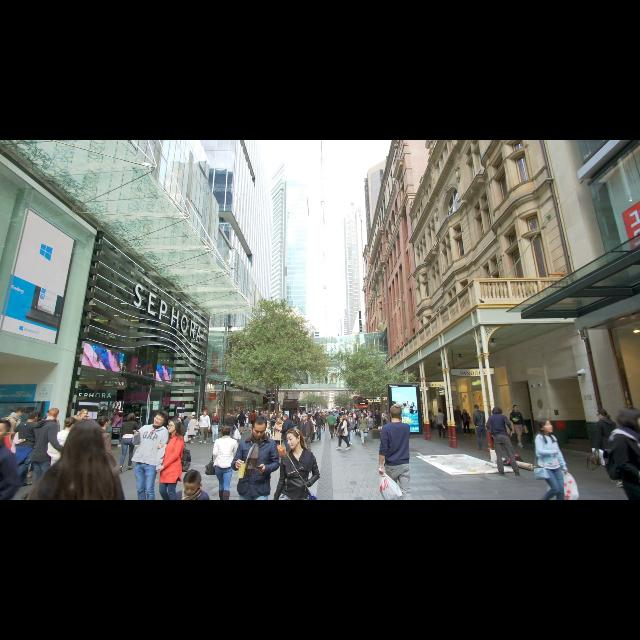head: (70, 421, 102, 464), (183, 469, 203, 496), (252, 418, 268, 440), (286, 428, 302, 450), (0, 421, 12, 443), (538, 418, 554, 434), (154, 413, 168, 427), (168, 418, 180, 434), (99, 416, 111, 430), (390, 405, 402, 419), (48, 408, 60, 420), (66, 418, 78, 430), (597, 408, 607, 419), (29, 411, 39, 421), (221, 426, 231, 436), (80, 409, 88, 419), (16, 408, 24, 417), (128, 413, 136, 421), (494, 406, 501, 414), (275, 418, 281, 426), (283, 414, 289, 422), (302, 414, 308, 422), (360, 412, 366, 418), (473, 405, 479, 411), (514, 404, 518, 412), (203, 410, 207, 416), (348, 412, 352, 418), (438, 408, 442, 414), (188, 414, 192, 418), (213, 412, 217, 416), (318, 413, 322, 417), (342, 416, 346, 420), (428, 410, 432, 414), (456, 406, 460, 410), (463, 410, 467, 414), (194, 416, 198, 419), (240, 412, 243, 414), (331, 412, 334, 414), (228, 414, 230, 416)
person: (33, 408, 69, 499), (47, 416, 85, 496), (12, 410, 48, 486), (592, 408, 626, 488), (484, 405, 520, 477), (116, 412, 140, 473), (2, 408, 26, 468), (72, 408, 92, 458), (472, 405, 490, 451), (509, 404, 527, 448), (298, 414, 314, 456), (280, 414, 294, 458), (334, 416, 352, 450), (208, 411, 222, 445), (344, 412, 358, 446), (356, 413, 369, 447), (198, 410, 210, 444), (272, 417, 284, 451), (186, 416, 200, 444), (182, 414, 195, 442), (224, 413, 236, 442), (326, 411, 338, 439), (314, 411, 324, 442), (436, 408, 446, 439), (452, 406, 463, 434), (461, 409, 471, 437), (236, 411, 248, 434), (428, 409, 436, 431)
